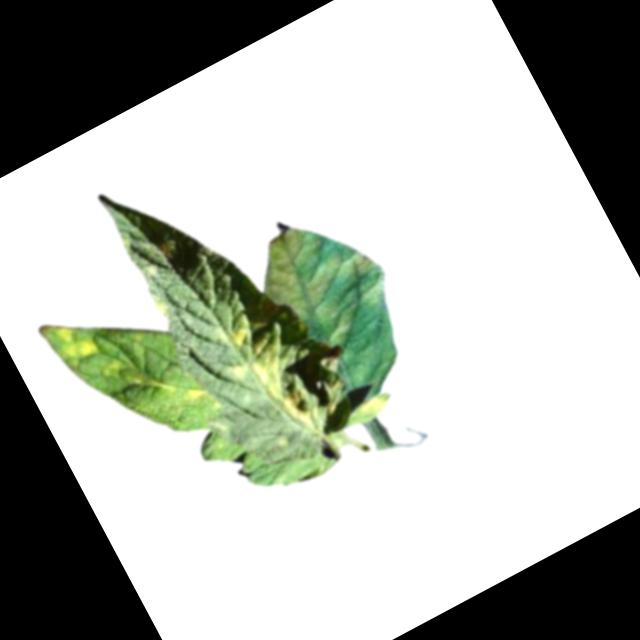Leaf_Mold: (241, 197, 398, 356), (205, 294, 332, 451), (50, 316, 100, 367)
